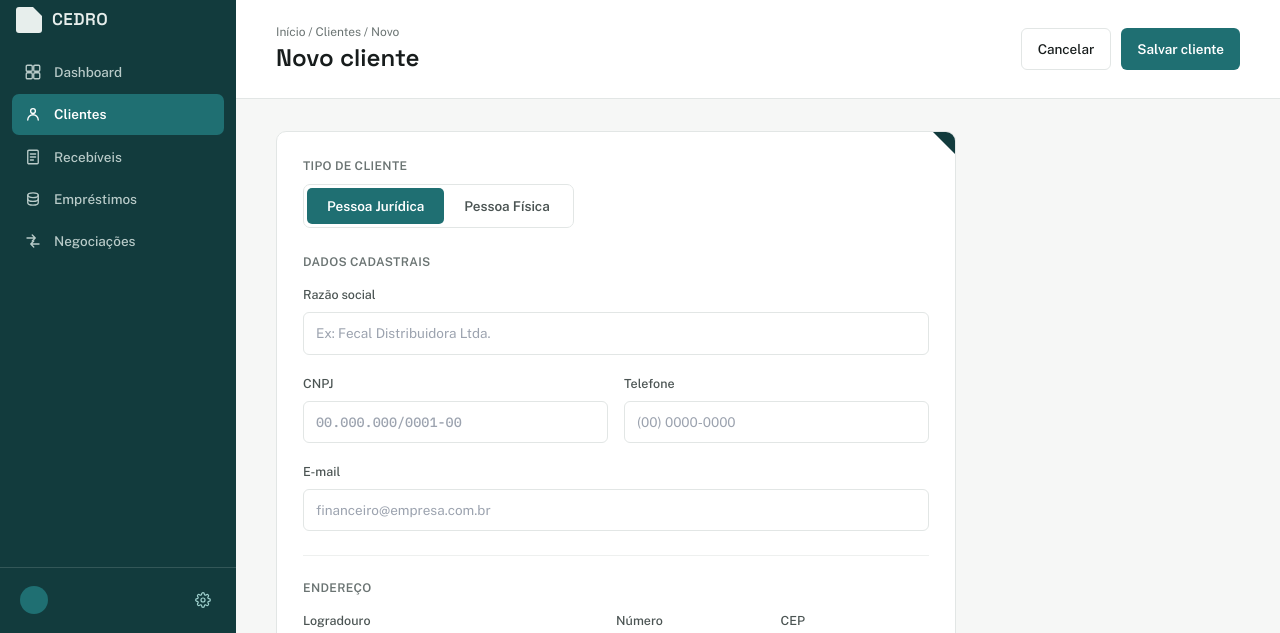
it: ClienteFormPage › shows validation errors when required fields are missing
The width and height of the screenshot is (1280, 633).
Click the button "Salvar cliente" at x=1181, y=49, box [1121,28,1240,70]
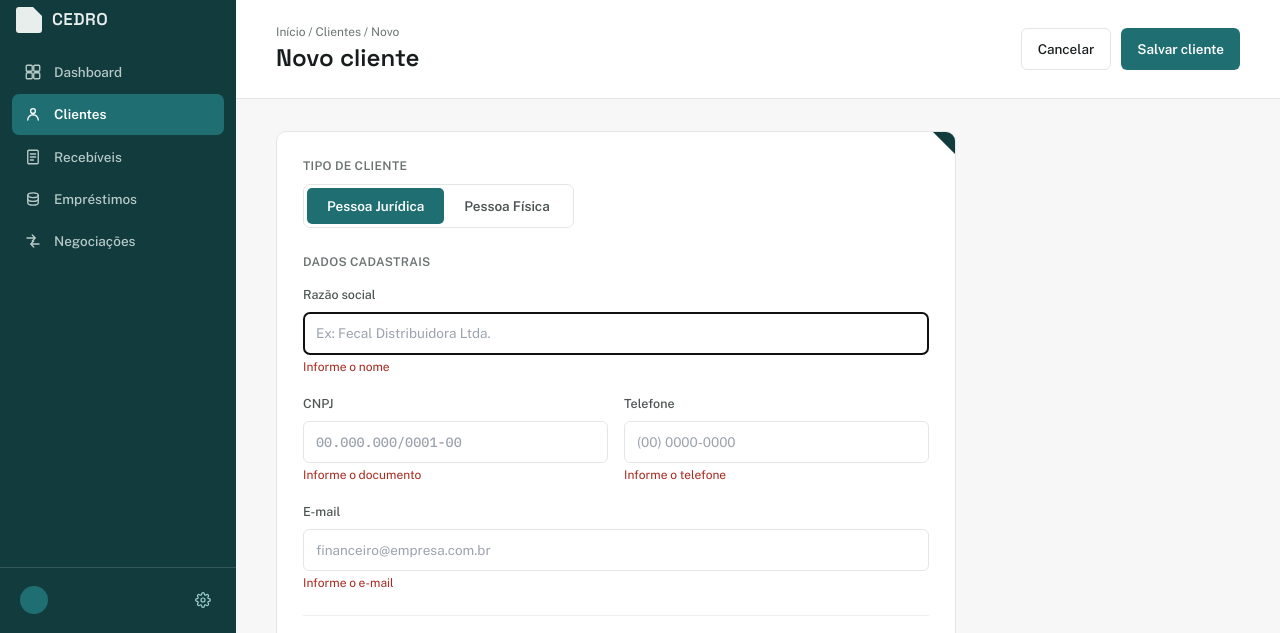
Expected: the text "Informe o nome" is shown, [303,360,390,374]
